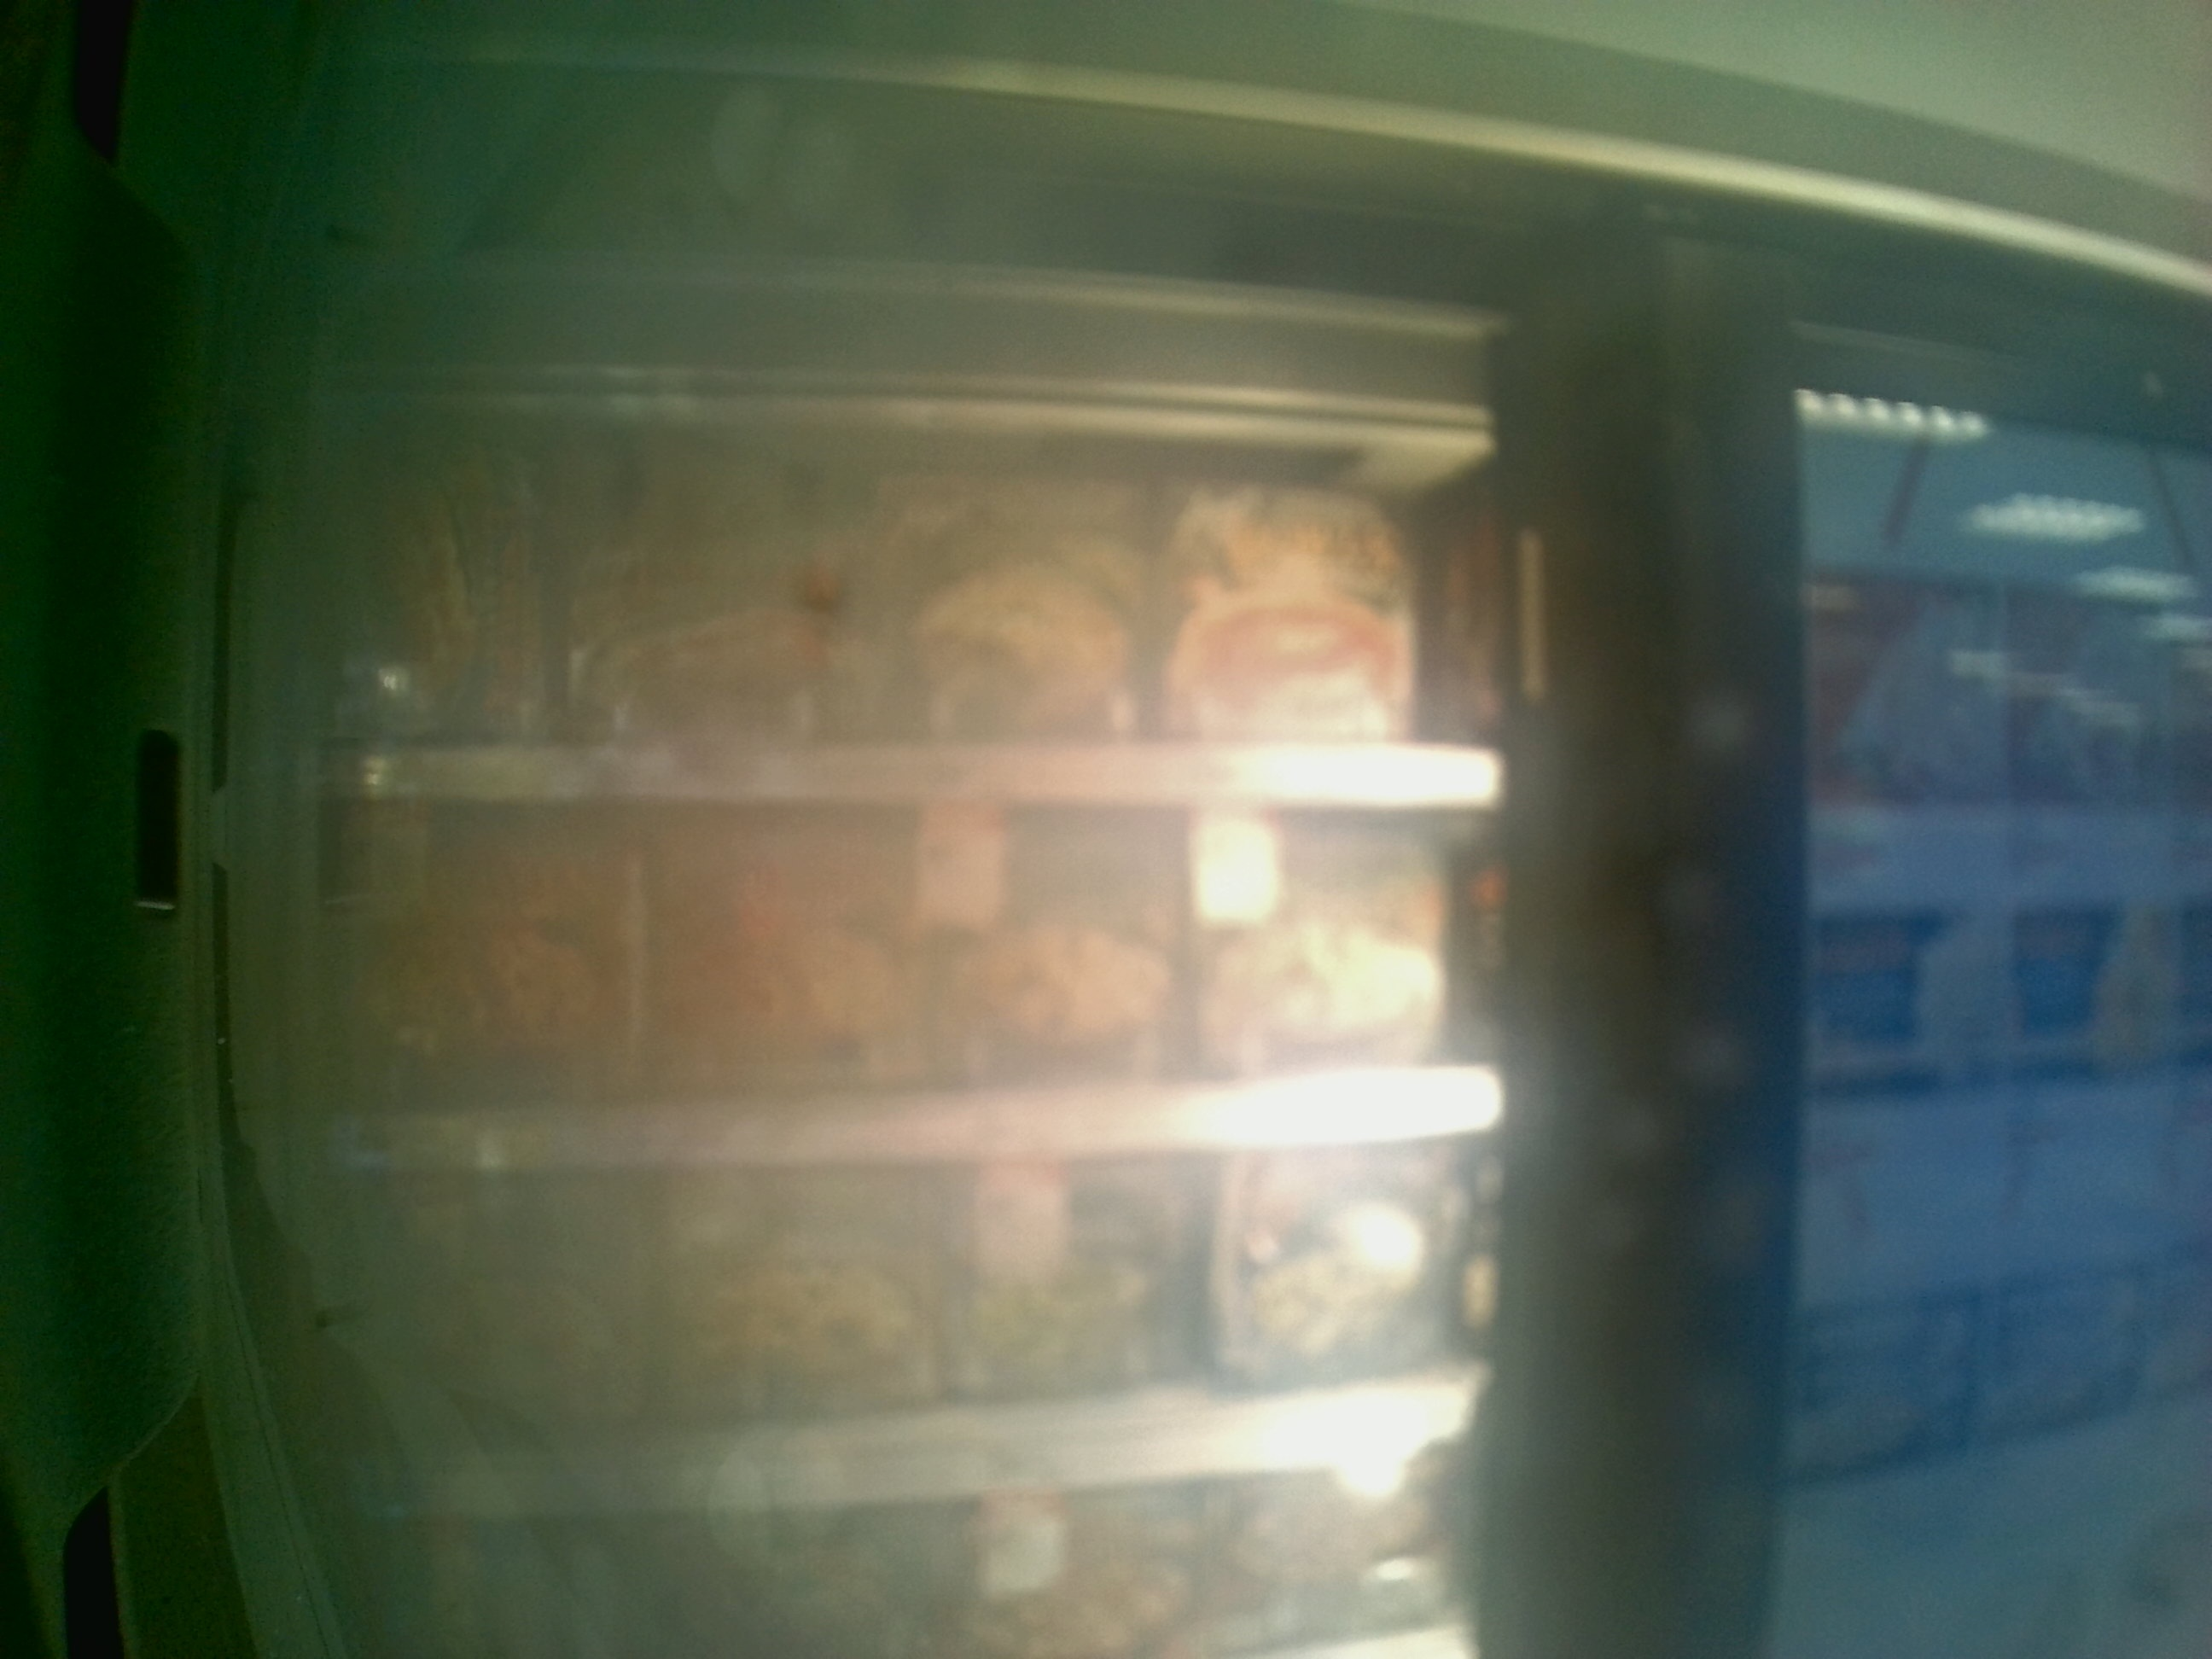frozen-food-shelf: (261, 450, 1515, 823), (258, 824, 1505, 1185)
